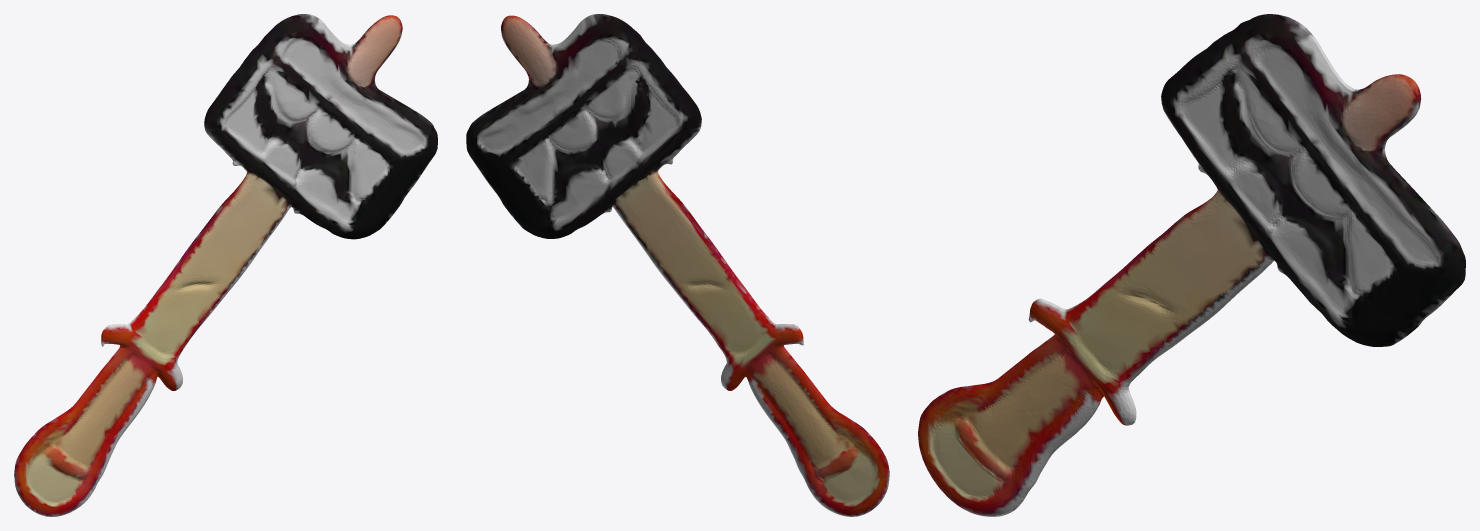
Rendered from mjoellnir.glb.
The picture shows the model from 3 angles, left to right: view 1: azimuth 30°, elevation 25°; view 2: azimuth 150°, elevation 25°; view 3: azimuth 330°, elevation 25°; orthographic projection. The views are drawn at different scales.
Parts seen in each view (by area): view 1: geometry_0; view 2: geometry_0; view 3: geometry_0.
Part boxes in pixels (x1,y1,x2,y2): geometry_0: (14, 14, 437, 516); geometry_0: (466, 14, 889, 516); geometry_0: (918, 14, 1465, 516).
Bounding box in the file's own units: 0.6869 × 0.6875 × 0.0258.
